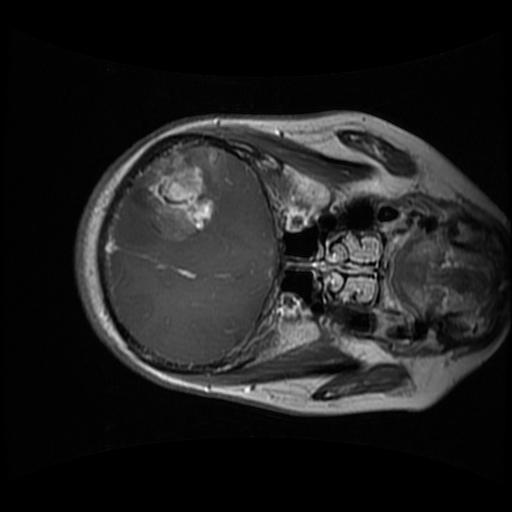glioma: (137, 145, 230, 241)
